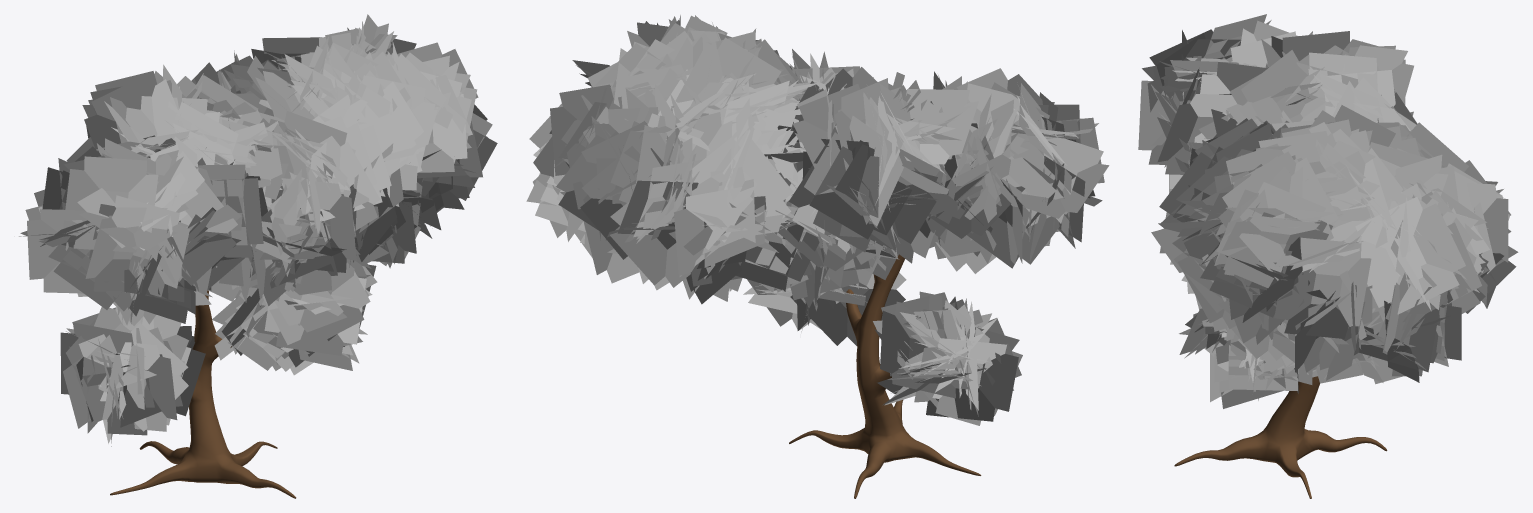
File: bigJungleTree_low 1.fbx
The picture shows the model from 3 angles, left to right: view 1: azimuth 30°, elevation 25°; view 2: azimuth 150°, elevation 25°; view 3: azimuth 270°, elevation 25°; orthographic projection. The views are drawn at different scales.
Parts seen in each view (by area): view 1: bigJungleTree; view 2: bigJungleTree; view 3: bigJungleTree.
Boxes of the visible parts, x1=… form: bigJungleTree: x1=19, y1=14, x2=497, y2=498; bigJungleTree: x1=526, y1=15, x2=1109, y2=498; bigJungleTree: x1=1138, y1=14, x2=1518, y2=498.
Bounding box in the file's own units: 1977 × 1461 × 1231.
